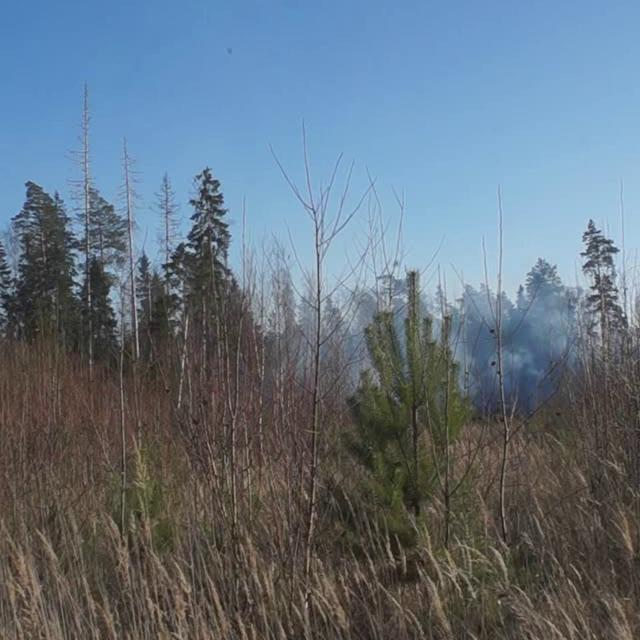Smoke: (289, 253, 588, 412)
